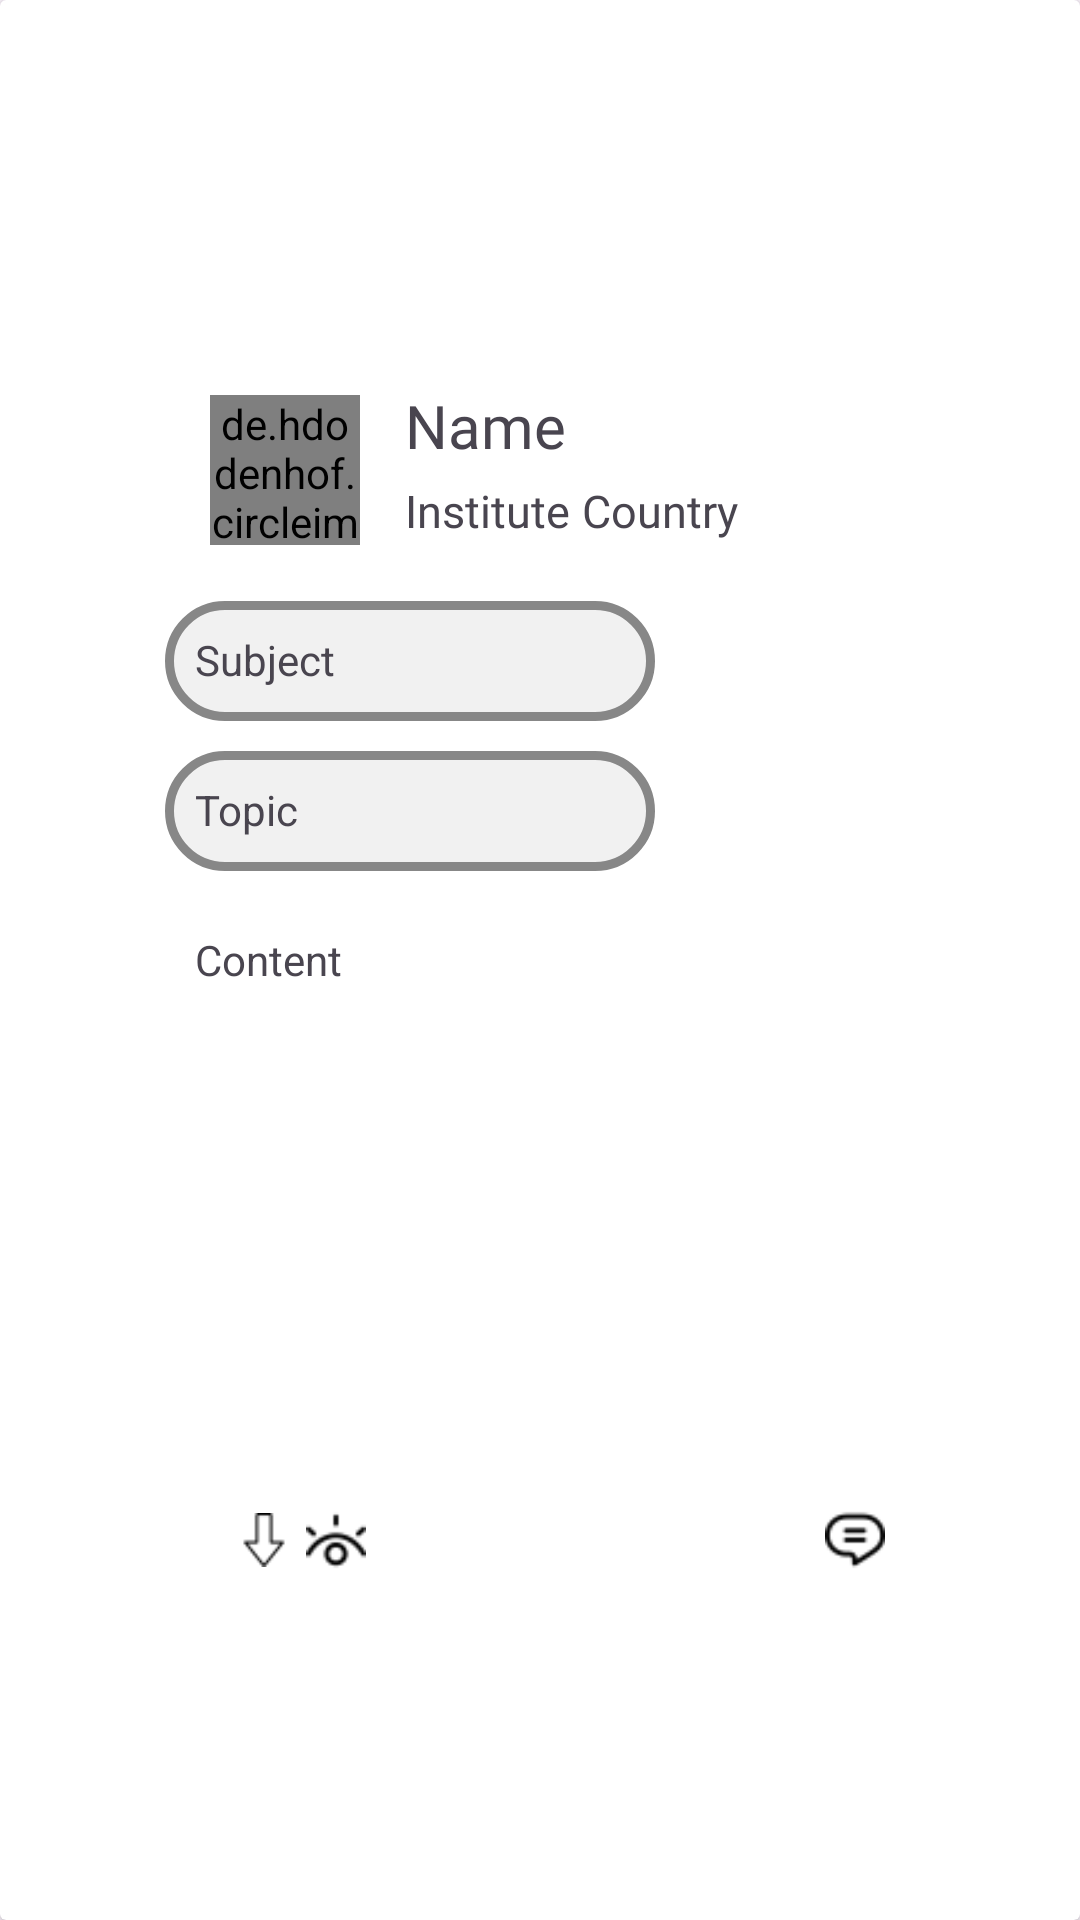

Locate icon controls on the screen. Image size 1080 × 1920, boxes as (x1, y1, x2, y2).
down: (243, 1513, 285, 1567)
eye: (306, 1514, 366, 1567)
speechbubble: (825, 1512, 885, 1567)
